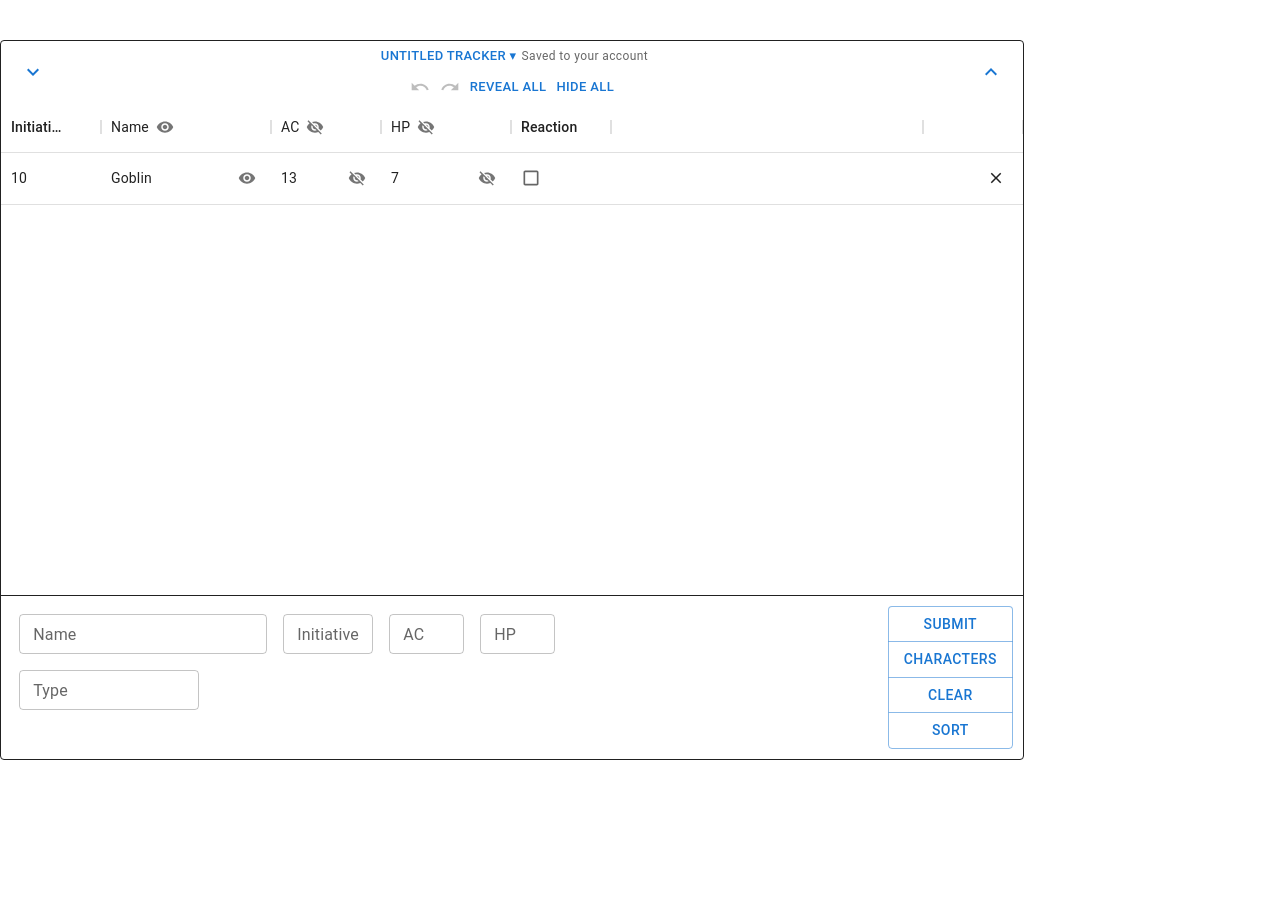
Scenario: players in the tracker › drops the picked players into the order, and saves them with who they are
The width and height of the screenshot is (1280, 900).
Expected: the text "Goblin" is shown, [111,168,152,188]
Click the button "Characters" at (950, 660), box [888,641,1013,678]
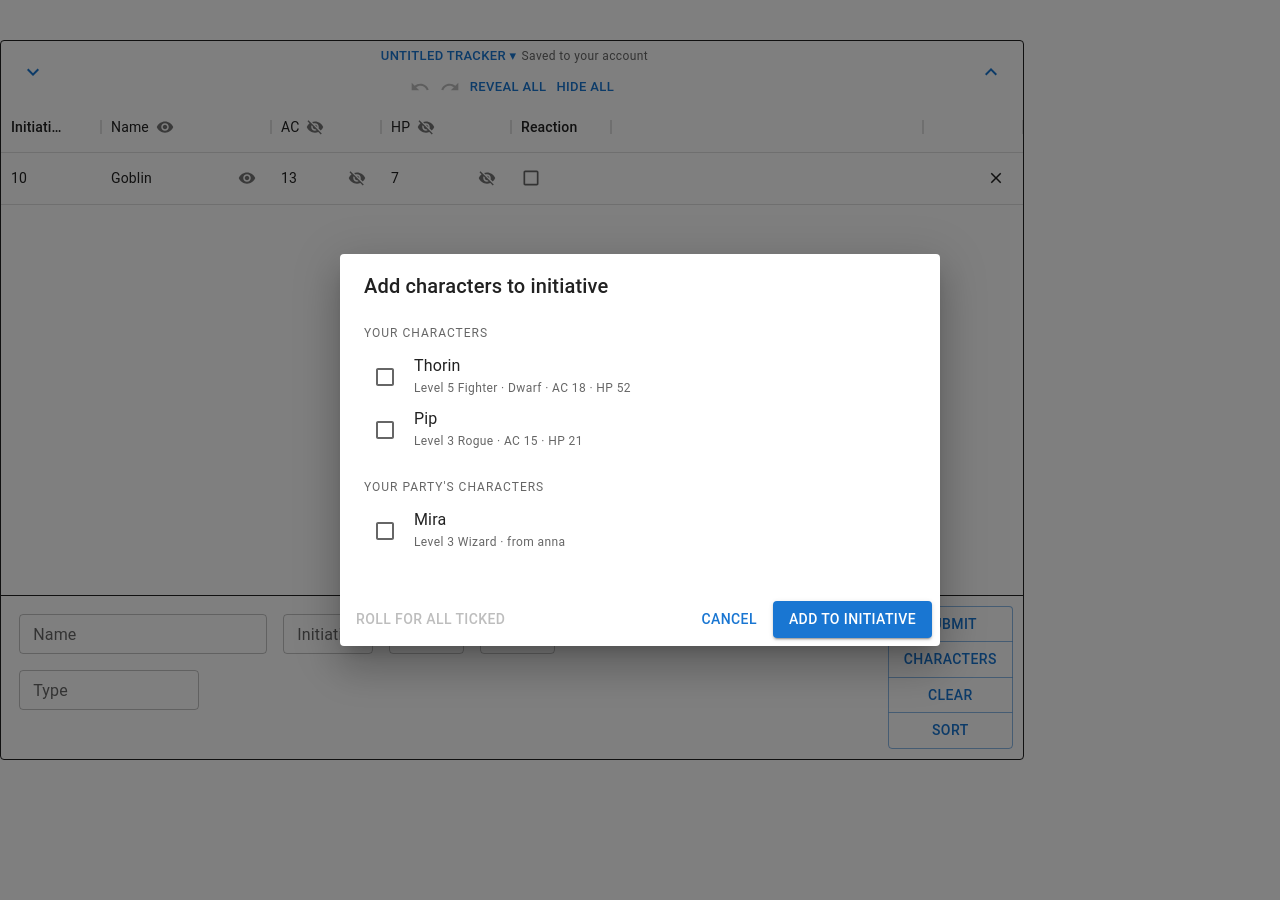
Expected: the checkbox named "Add Thorin" is shown
Click the checkbox named "Add Thorin" at (385, 377), box [373,365,397,389]
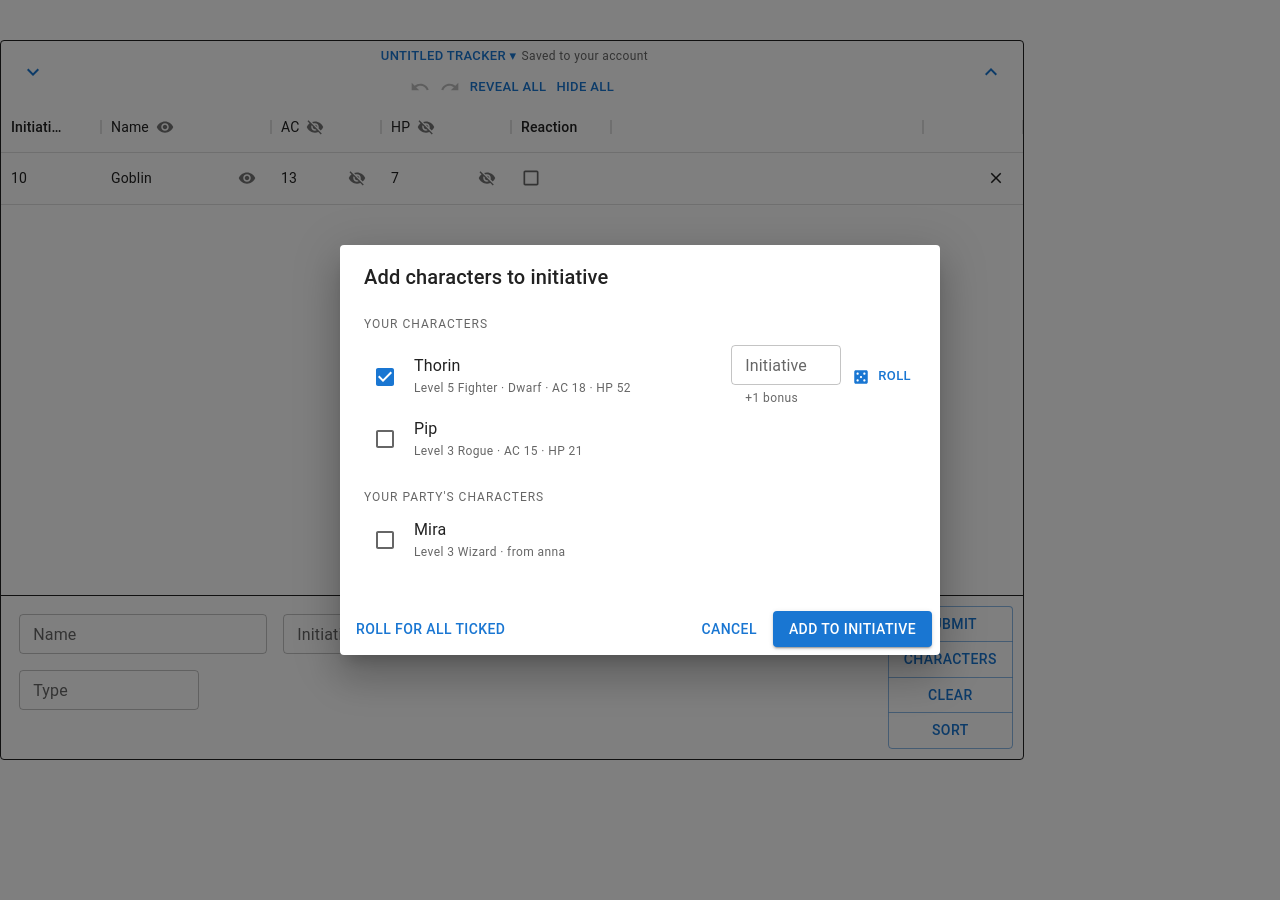
Type "16" into the field named "Initiative for Thorin" at (786, 365), box [731,345,841,385]
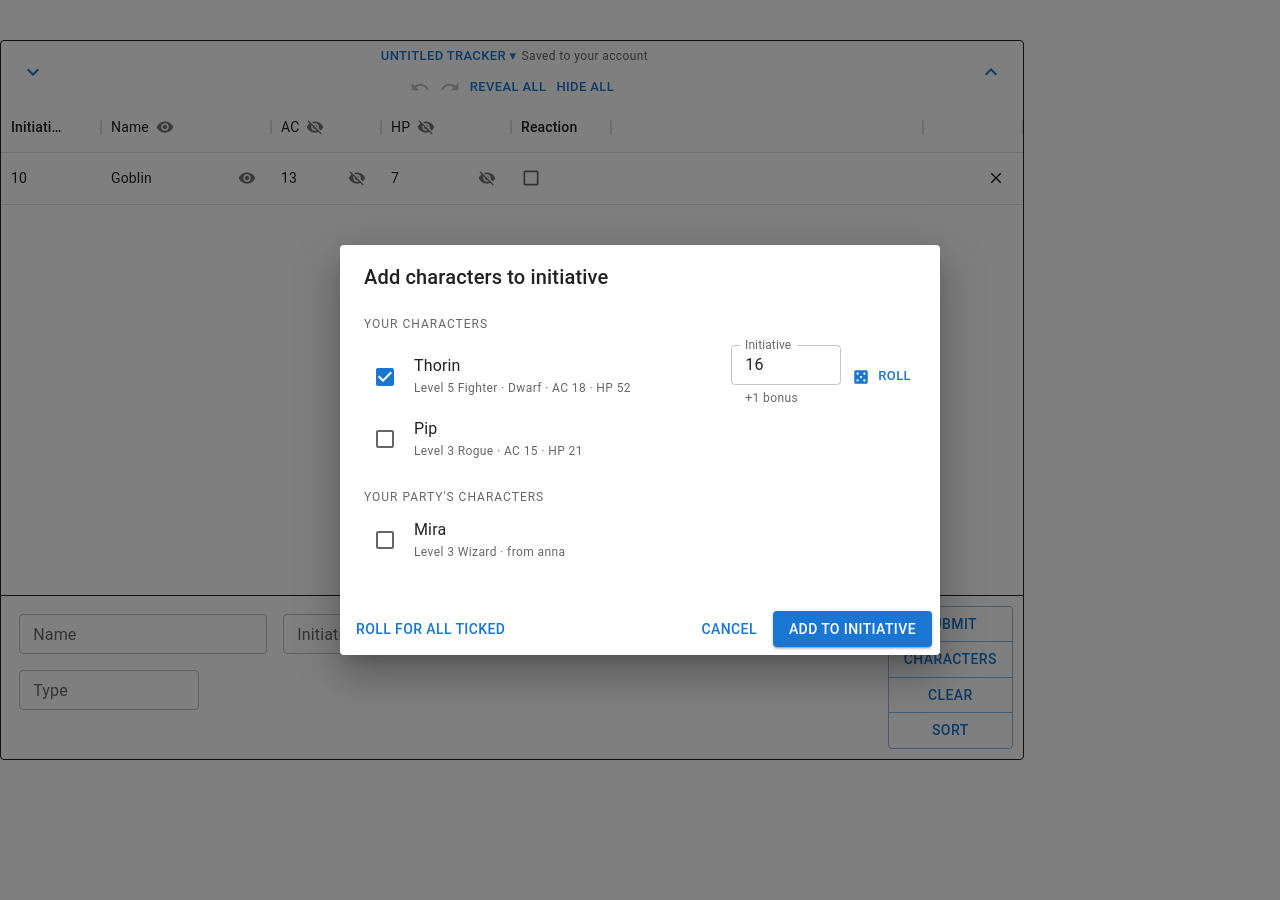
Click the button "Add to initiative" at (852, 629), box [773,610,932,647]
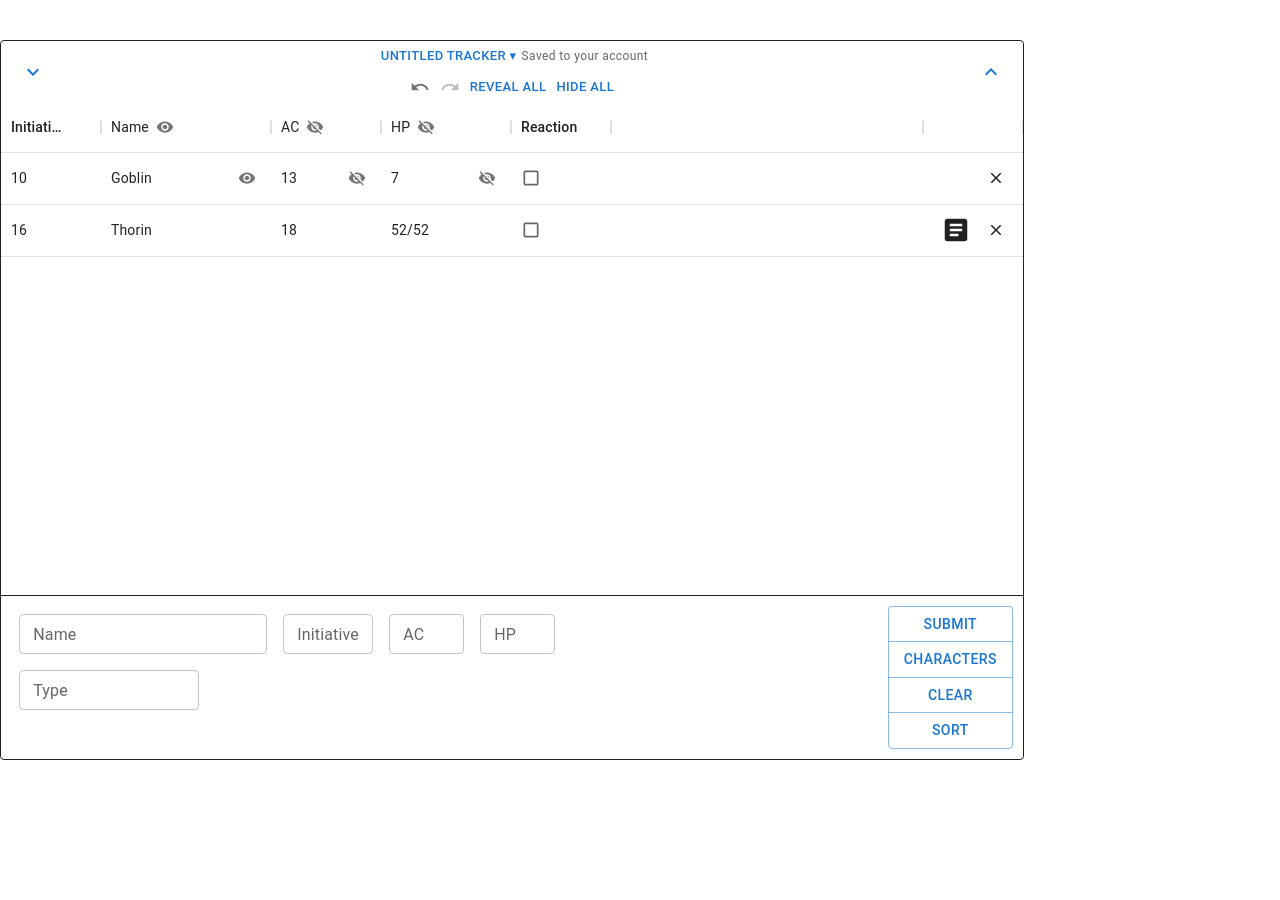
Expected: the text "Thorin" is shown, [111,220,152,240]
Expected: the dialog is gone
